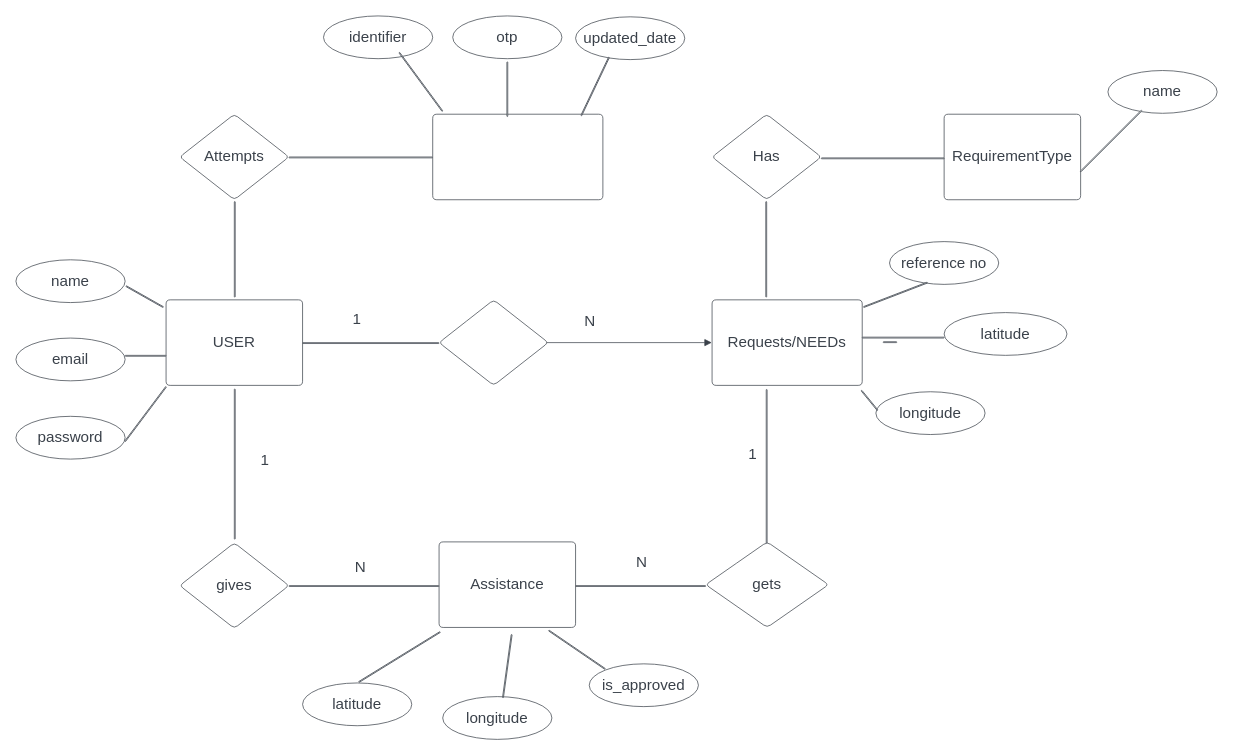
The diagram is 1233 pixels wide and 755 high, and some of its shapes have lost their labels. Each missing label, with the centre of its shape:
creates: point 493,342
LoginAttempt: point 517,156
